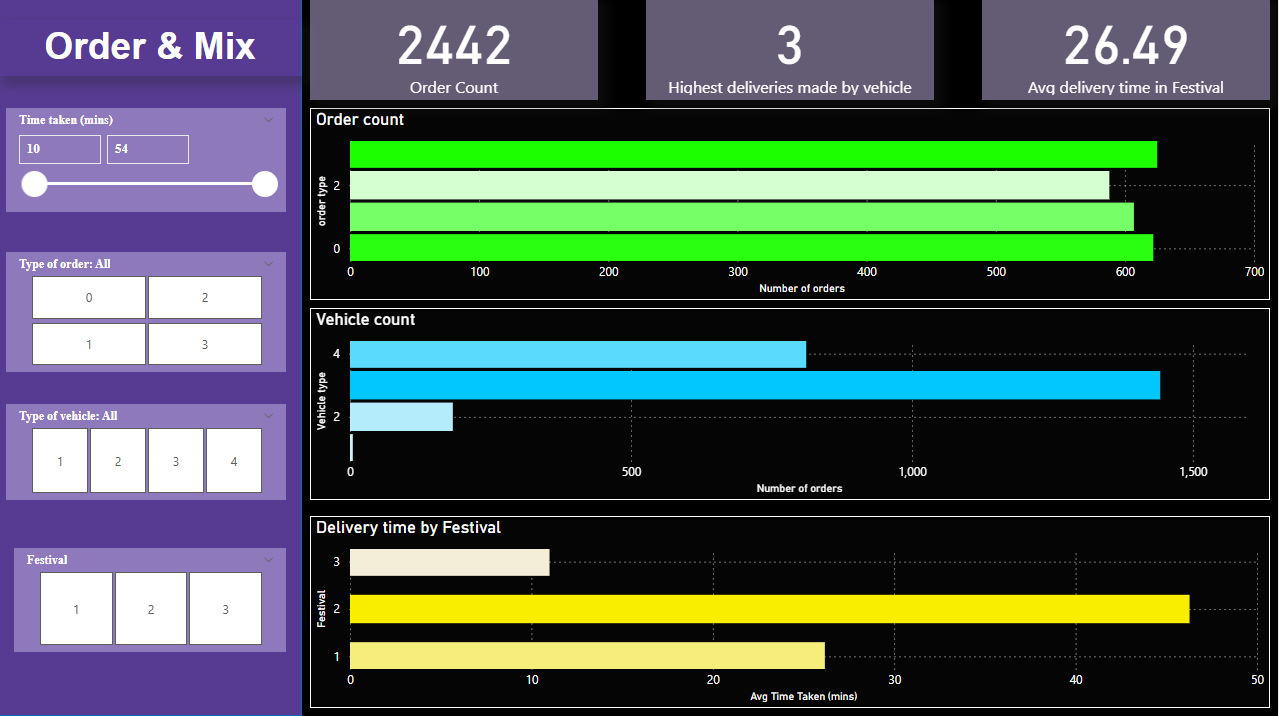

This screenshot's page, from the dashboard's own definition file:
{"tool":"powerbi","page":{"name":"Order and MIx","canvas":[1280,720],"ordinal":2},"visuals":[{"type":"shape","box":[0,0,304,720],"z":0},{"type":"textbox","box":[0,24,304,56],"z":1000},{"type":"slicer","fields":{"Values":["working data ori.Type_of_order"]},"box":[8,256,280,120],"z":11000},{"type":"slicer","fields":{"Values":["working data ori.Type_of_vehicle"]},"box":[8,408,280,96],"z":12000},{"type":"slicer","fields":{"Values":["working data ori.Festival"]},"box":[16,552,272,104],"z":13000},{"type":"slicer","fields":{"Values":["working data ori.Time_taken(min)"]},"box":[8,112,280,104],"z":14000},{"type":"barChart","title":"Order count","fields":{"Y":["CountNonNull(working data ori.ID)"],"Category":["working data ori.Type_of_order"]},"box":[312,112,960,192],"z":15000},{"type":"barChart","title":"Vehicle count","fields":{"Category":["working data ori.Type_of_vehicle"],"Y":["CountNonNull(working data ori.ID)"]},"box":[312,312,960,192],"z":16000},{"type":"barChart","title":"Delivery time by Festival","fields":{"Category":["working data ori.Festival"],"Y":["Avg(working data ori.Time_taken(min))"]},"box":[312,520,960,192],"z":17000},{"type":"card","fields":{"Values":["Median(working data ori.Type_of_vehicle)"]},"box":[648,0,288,104],"z":18000},{"type":"card","fields":{"Values":["CountNonNull(working data ori.ID)"]},"box":[312,0,288,104],"z":19000},{"type":"card","fields":{"Values":["working data ori.AvgFestivalTime"]},"box":[984,0,288,104],"z":20000}]}

Visuals, with their boxes in screenshot pixels (x1, y1, x2, y2), scaled from the page's 1280x720 canvas onto the 1279x716 screenshot:
shape: Rect(0, 0, 304, 715)
textbox: Rect(0, 24, 304, 80)
slicer - working data ori.Type_of_order: Rect(8, 255, 288, 374)
slicer - working data ori.Type_of_vehicle: Rect(8, 406, 288, 501)
slicer - working data ori.Festival: Rect(16, 549, 288, 652)
slicer - working data ori.Time_taken(min): Rect(8, 111, 288, 215)
"Order count" barChart: Rect(312, 111, 1271, 302)
"Vehicle count" barChart: Rect(312, 310, 1271, 501)
"Delivery time by Festival" barChart: Rect(312, 517, 1271, 708)
card - Median(working data ori.Type_of_vehicle): Rect(647, 0, 935, 103)
card - CountNonNull(working data ori.ID): Rect(312, 0, 600, 103)
card - working data ori.AvgFestivalTime: Rect(983, 0, 1271, 103)
